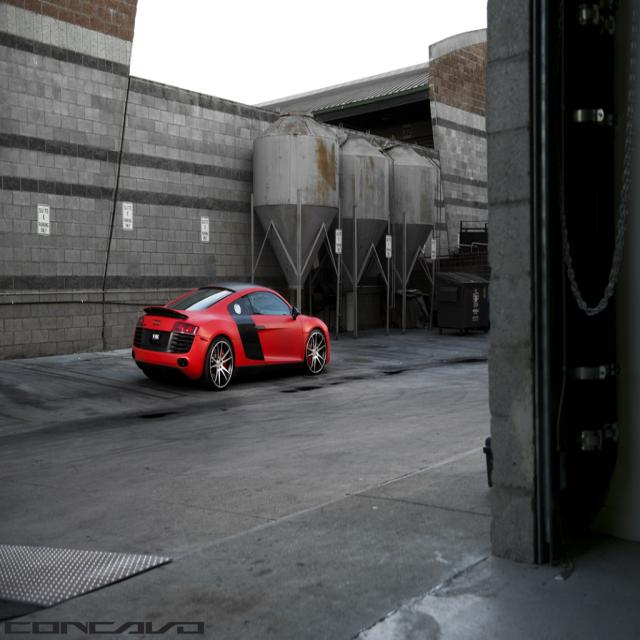car: (131, 283, 330, 389)
